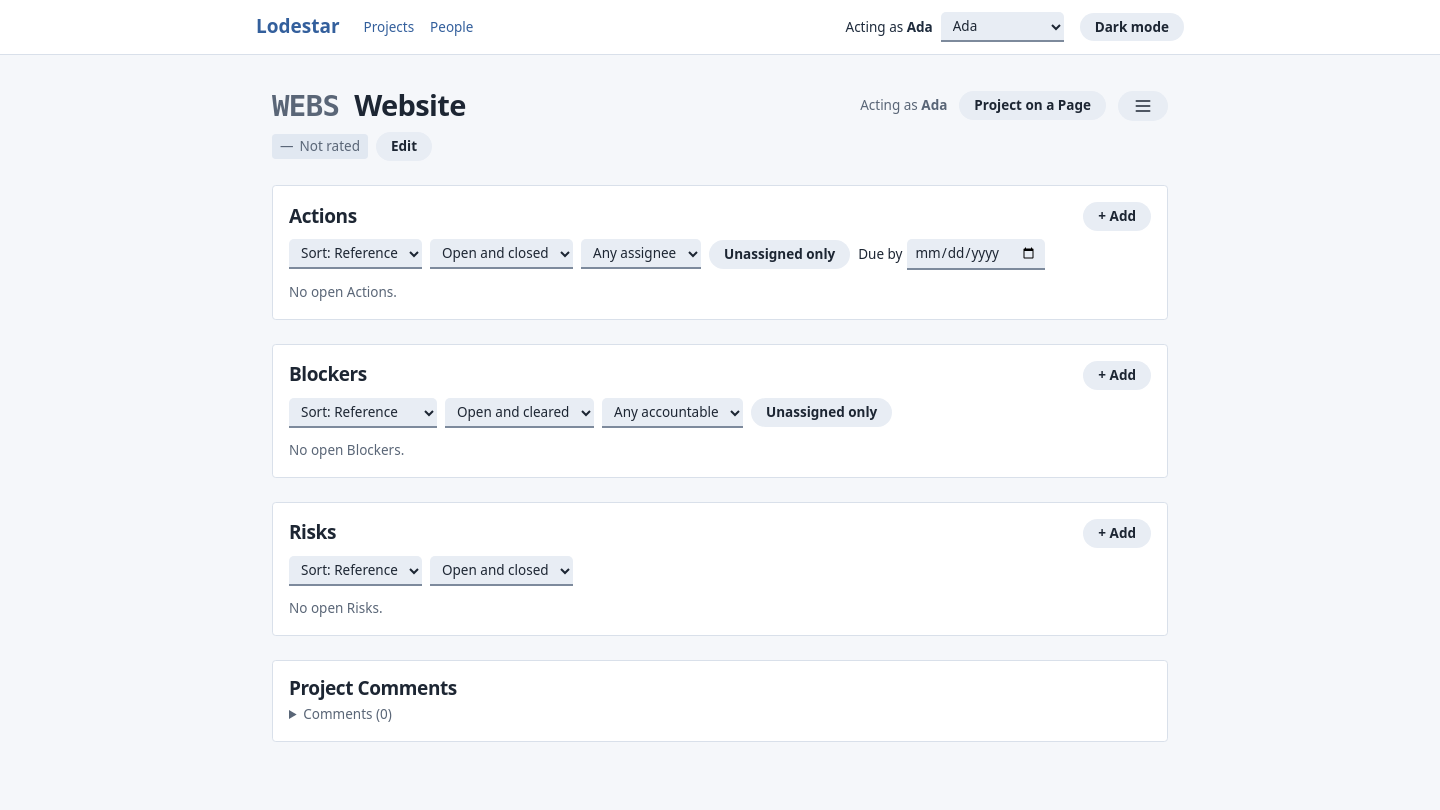
the Minutes reader (#84) › opens over the page without closing the menu, and closes alone on Esc
Click the button named "Project menu": {"x": 1143, "y": 106} x1=1118 y1=91 x2=1168 y2=121
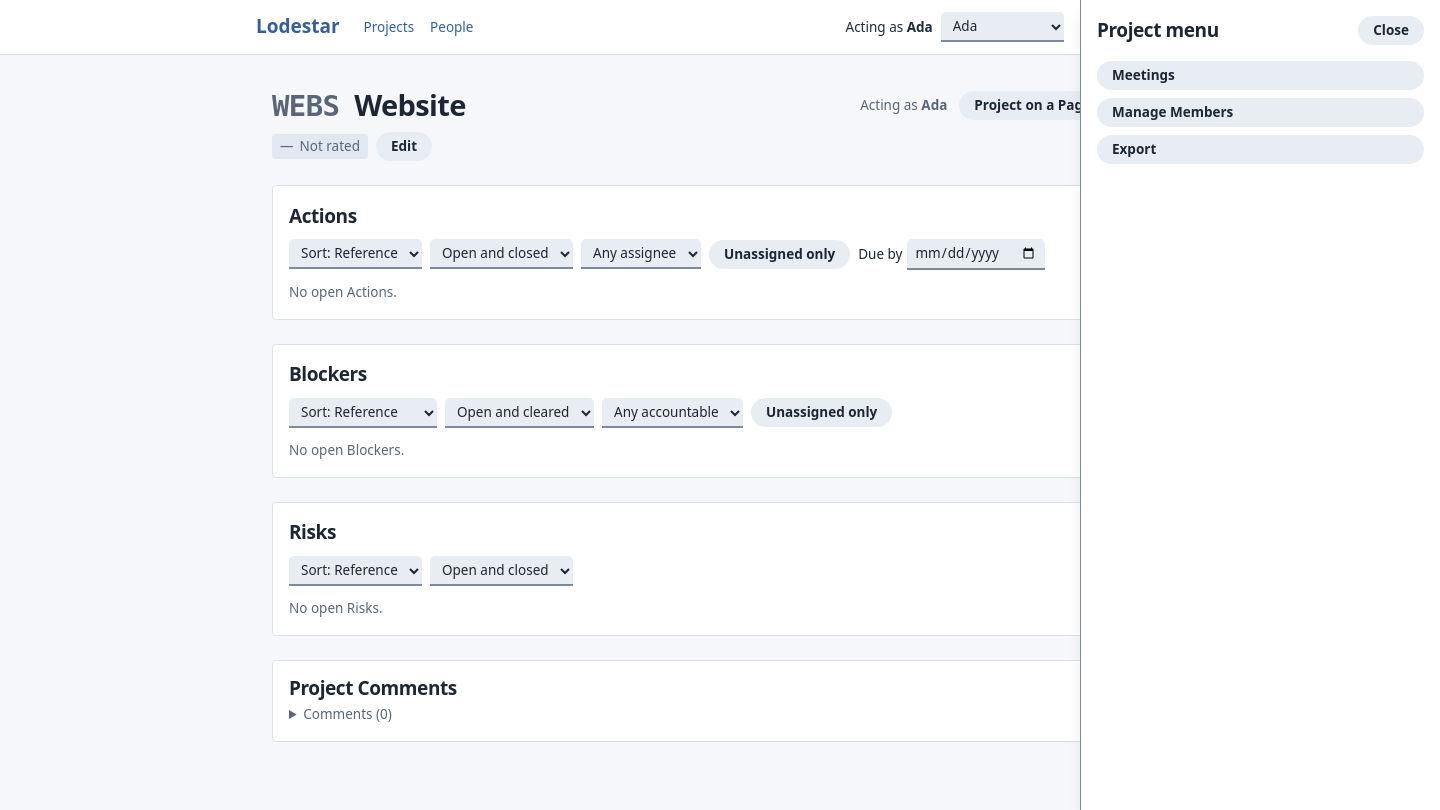
Click the button "Meetings": {"x": 1143, "y": 75} x1=1097 y1=61 x2=1424 y2=90
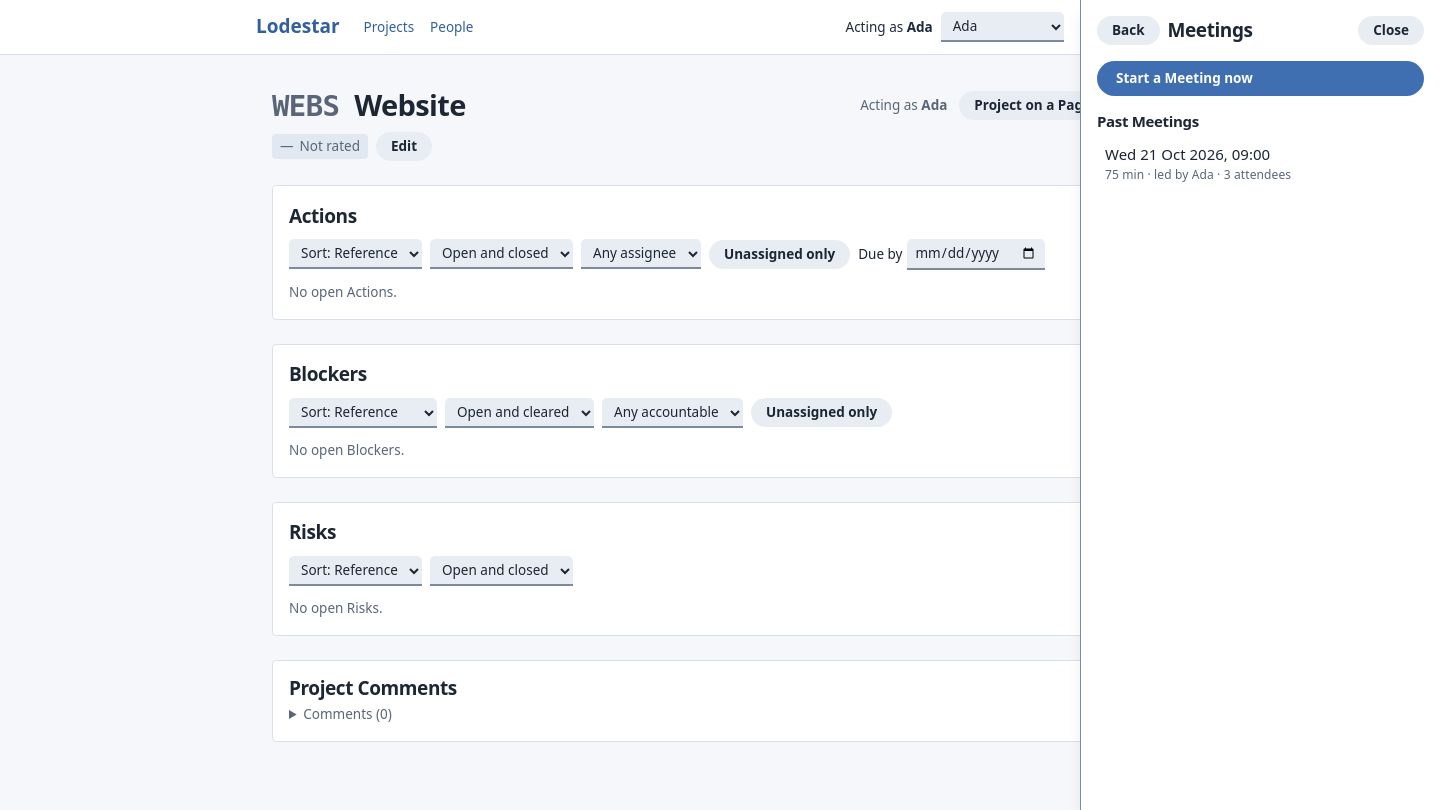
Click the button "Wed 21 Oct 2026, 09:00 75 min · led by Ada · 3 attendees": {"x": 1260, "y": 163} x1=1097 y1=138 x2=1424 y2=188
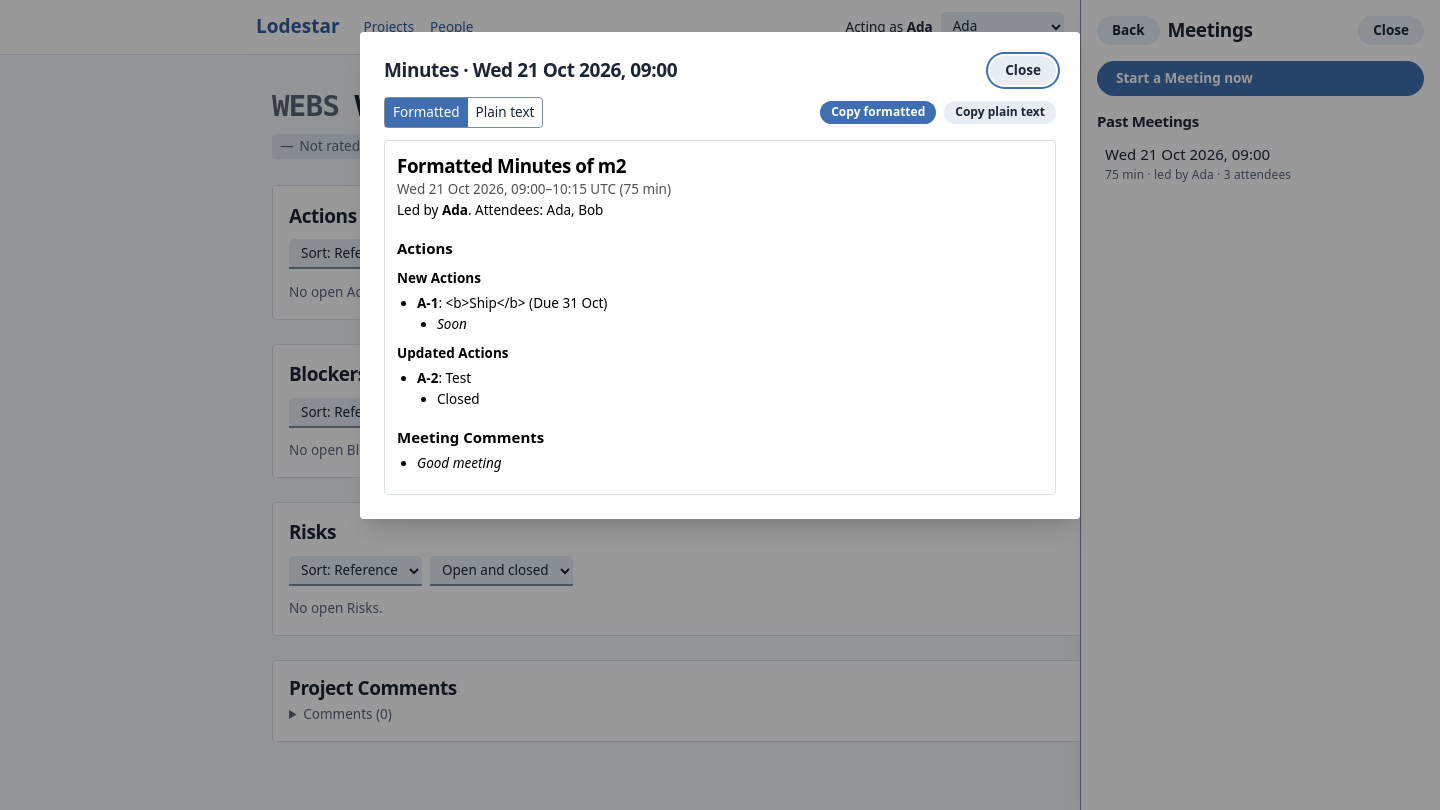
Check: the dialog "Meetings" is shown, box x1=1080 y1=0 x2=1439 y2=809
Check: the heading "Formatted Minutes of m2" is shown, box x1=397 y1=153 x2=626 y2=178
Press Escape
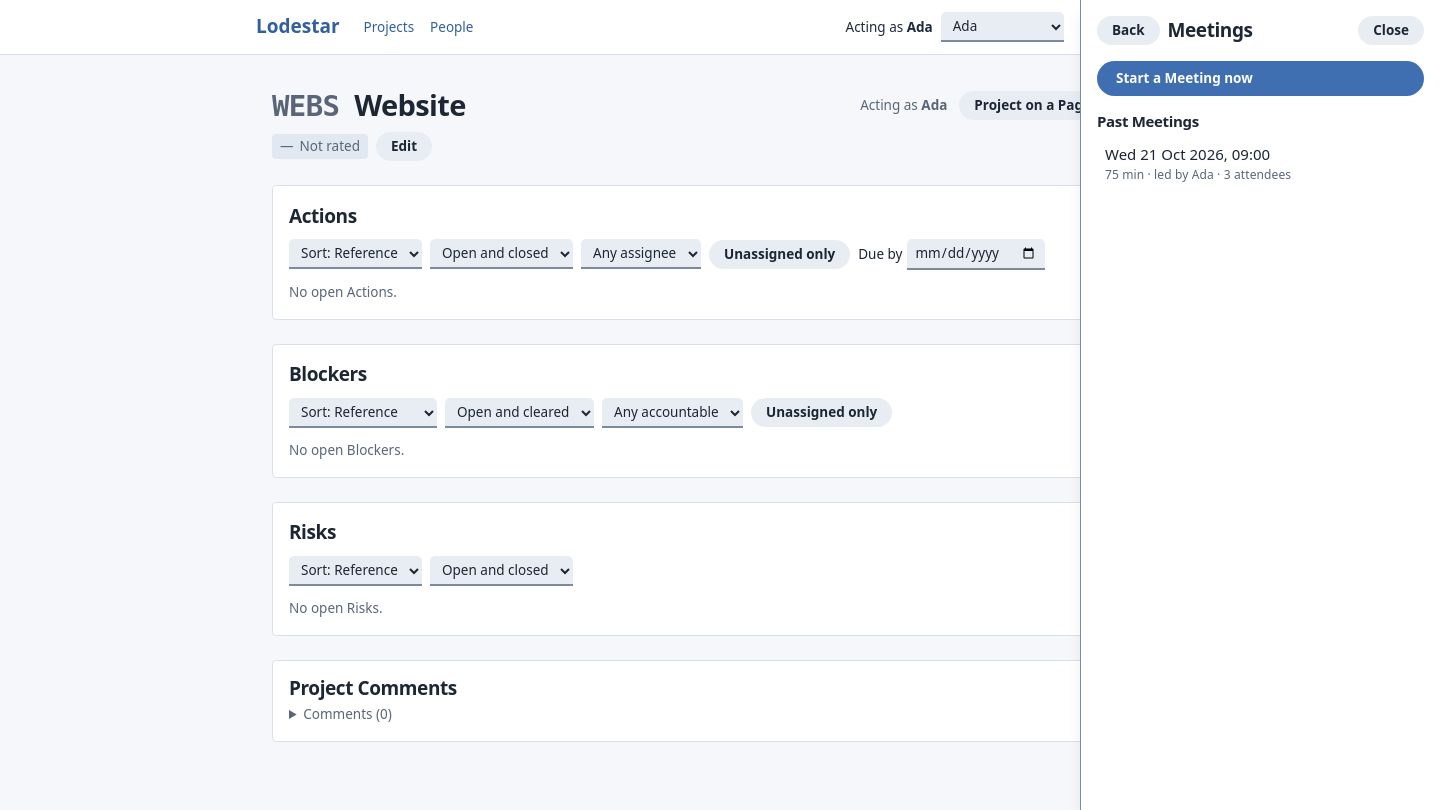
Check: the dialog "Meetings" is shown, box x1=1080 y1=0 x2=1439 y2=809
Check: the heading "Minutes" is gone
